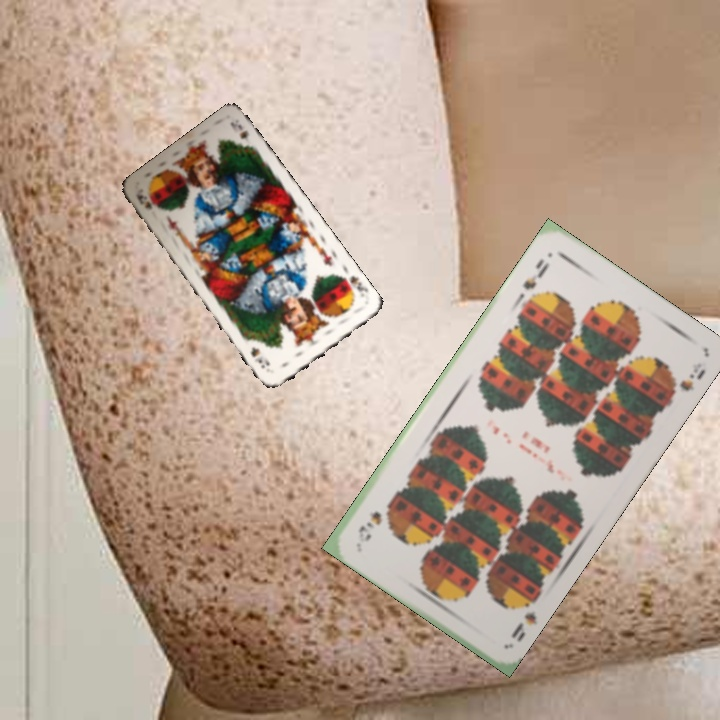S9: (507, 593, 541, 645), (518, 254, 552, 293)
SK: (337, 272, 371, 300), (132, 188, 155, 212)
